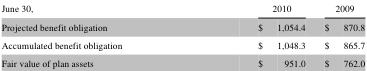table: (0, 1, 364, 68)
table column: (0, 1, 189, 68), (189, 1, 314, 68), (314, 1, 364, 68)
table column header: (0, 1, 364, 16)
table row: (0, 16, 364, 35), (0, 35, 364, 53), (0, 1, 364, 16), (0, 53, 364, 68)
